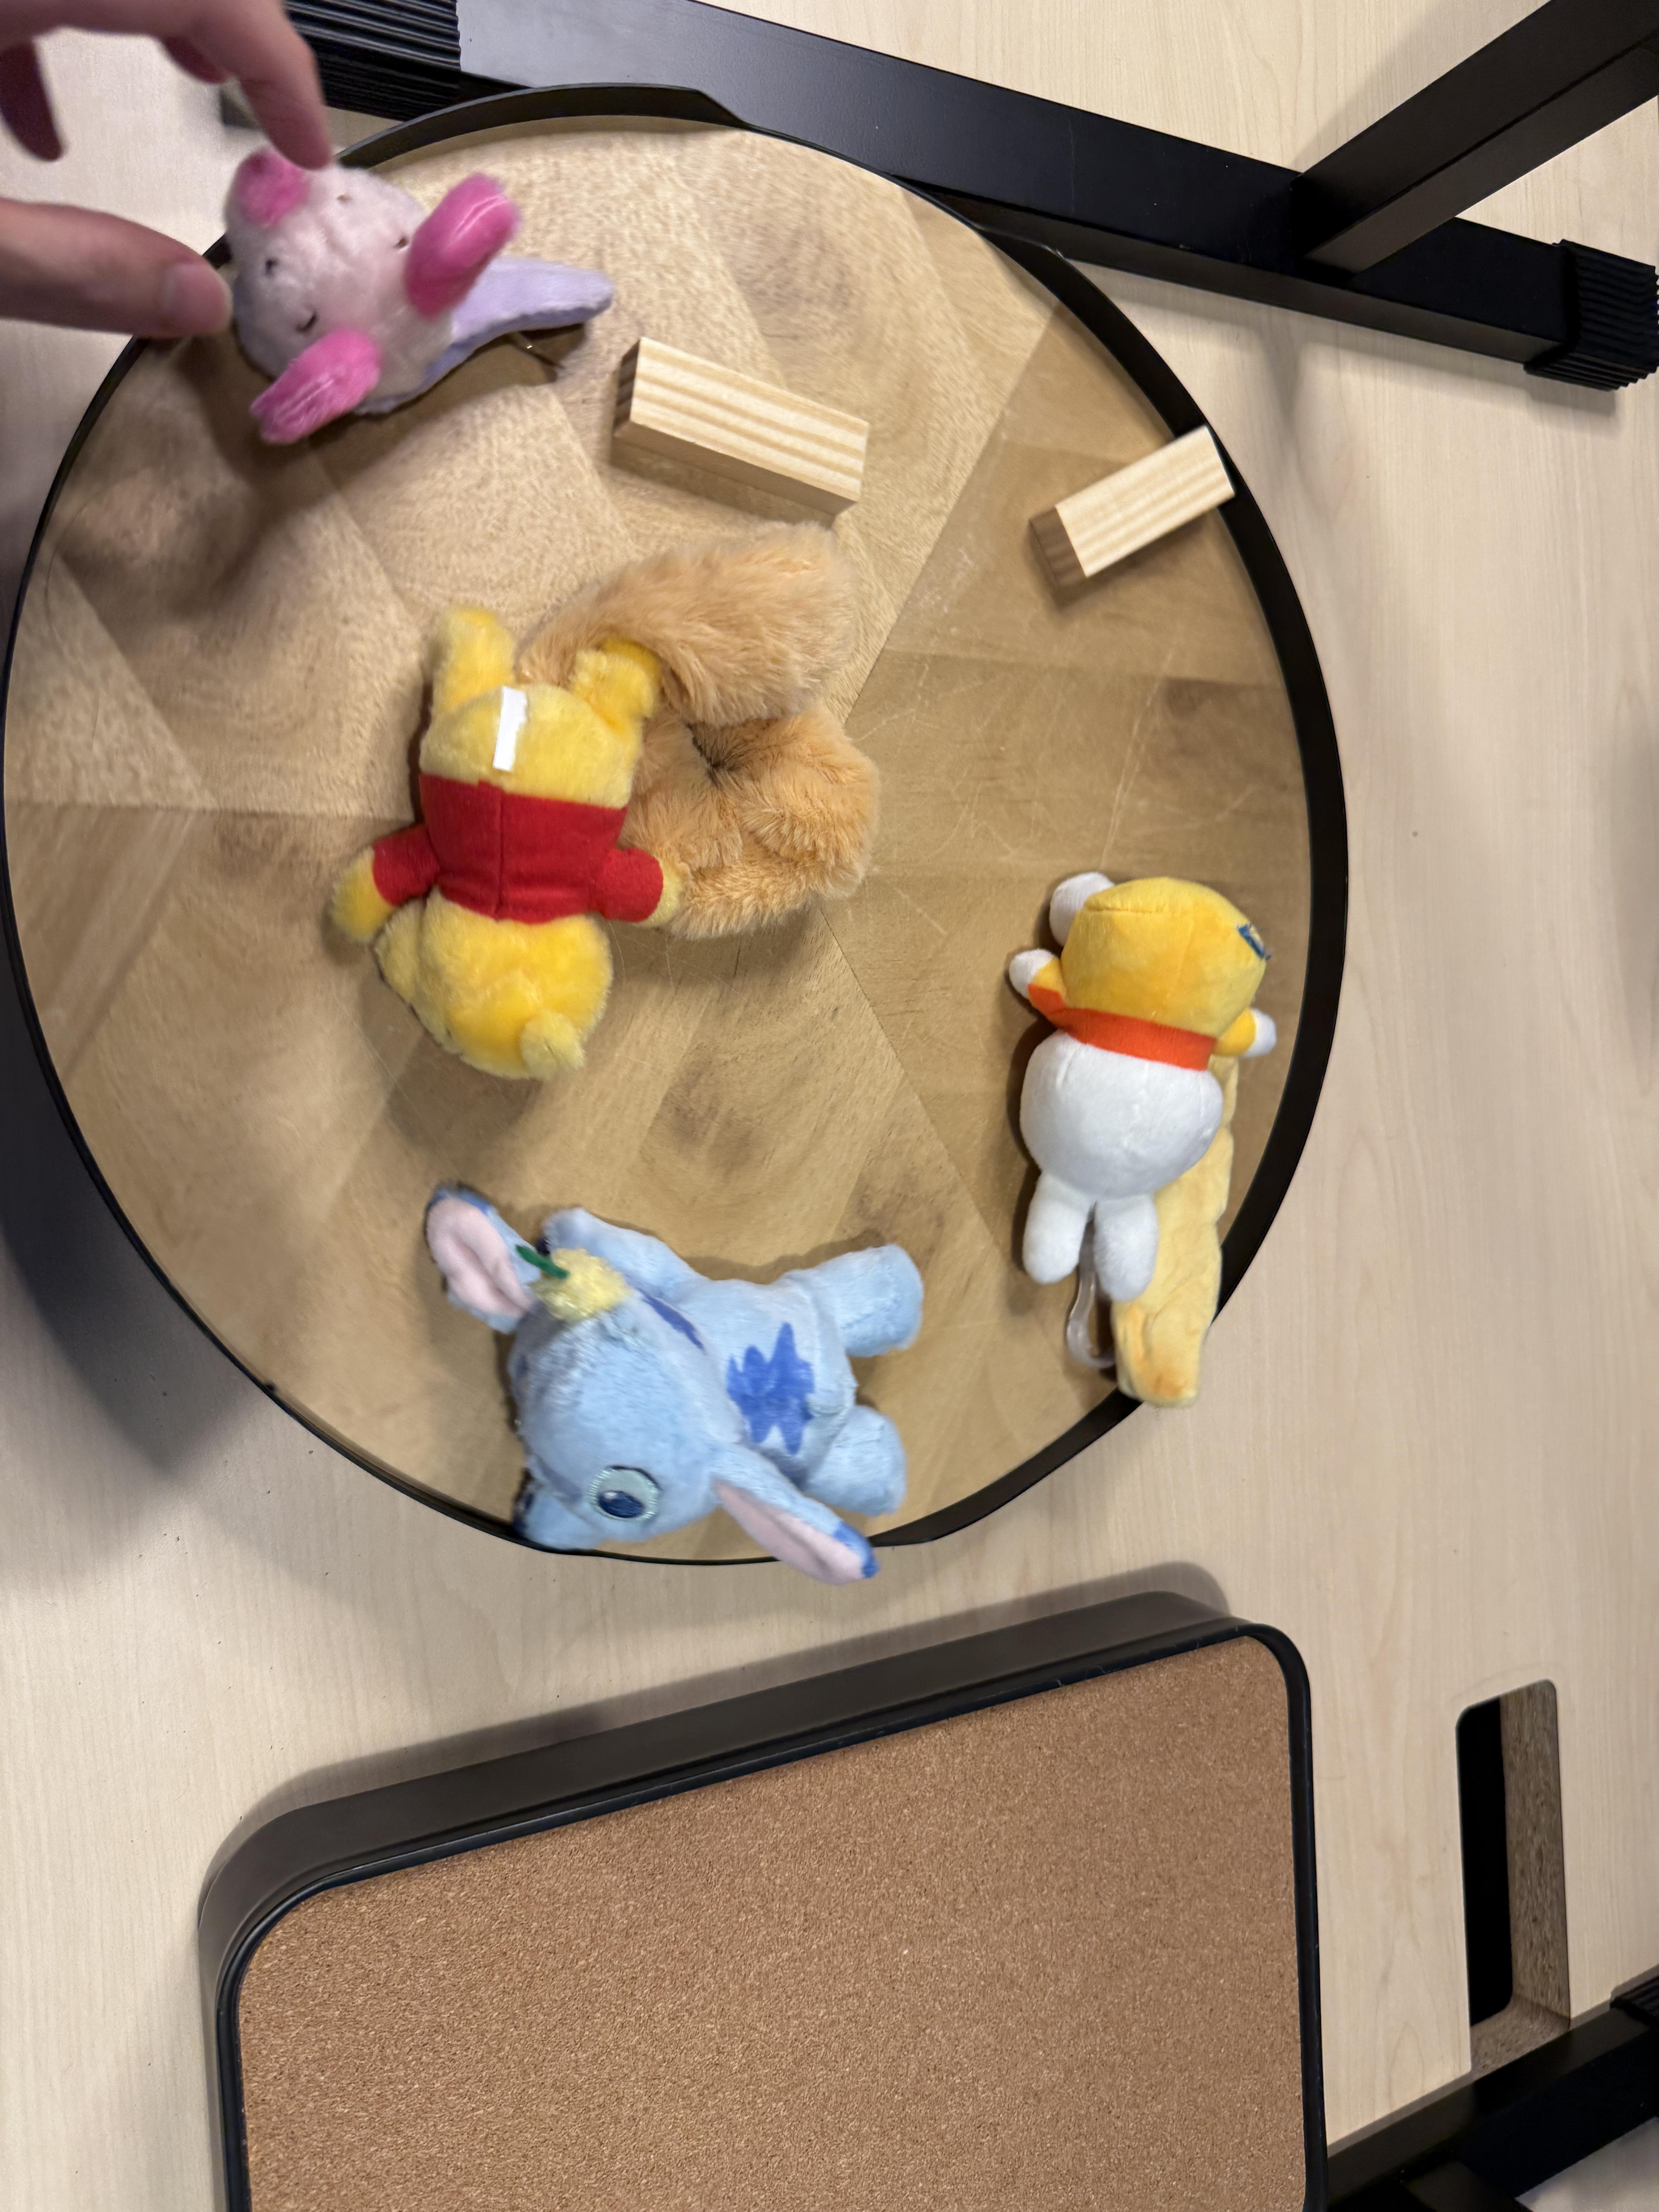block: (627, 329, 877, 510), (1046, 406, 1244, 594)
bread: (1112, 1022, 1251, 1411)
doll: (333, 535, 877, 1096), (406, 1193, 924, 1580), (1007, 860, 1276, 1291), (221, 146, 615, 434)
